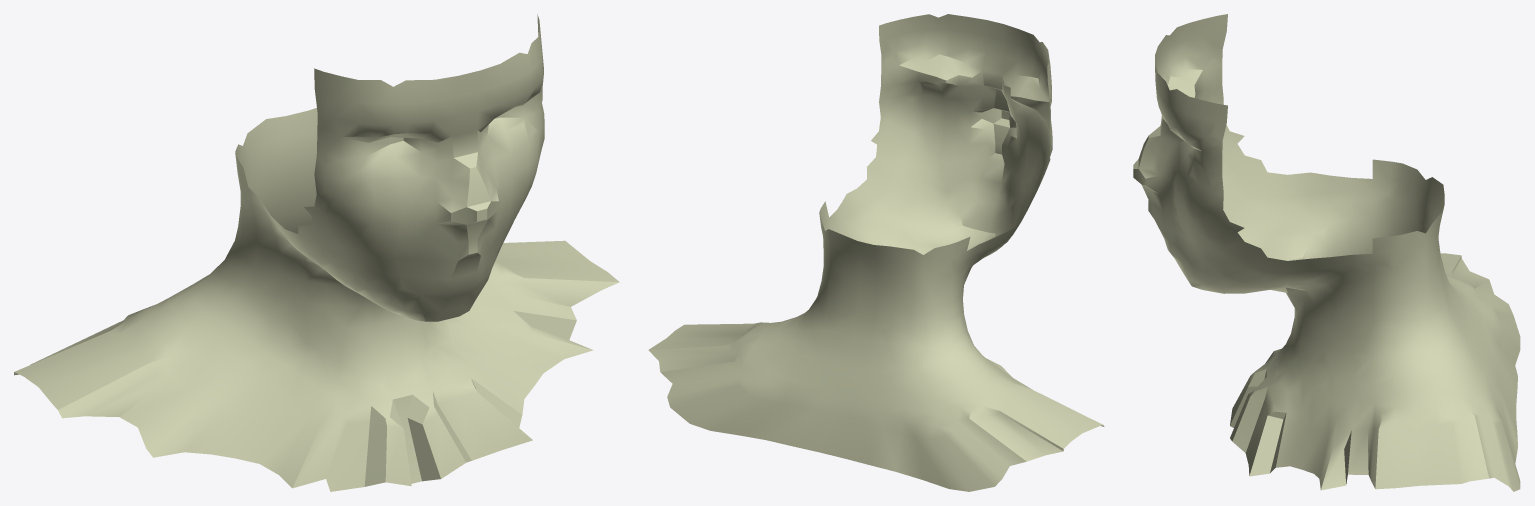
The model's file is Head.fbx.
3 renders of one model, left to right at view 1: azimuth 30°, elevation 25°; view 2: azimuth 150°, elevation 25°; view 3: azimuth 270°, elevation 25°, orthographic. The views are drawn at different scales.
Visible parts, largest first — view 1: Body.003; view 2: Body.003; view 3: Body.003.
Part boxes in pixels (<box>): Body.003: <box>14,14,619,491</box>; Body.003: <box>648,14,1104,491</box>; Body.003: <box>1133,14,1520,491</box>.
Size of the model in its own units: 40.43 by 31.09 by 28.87.
